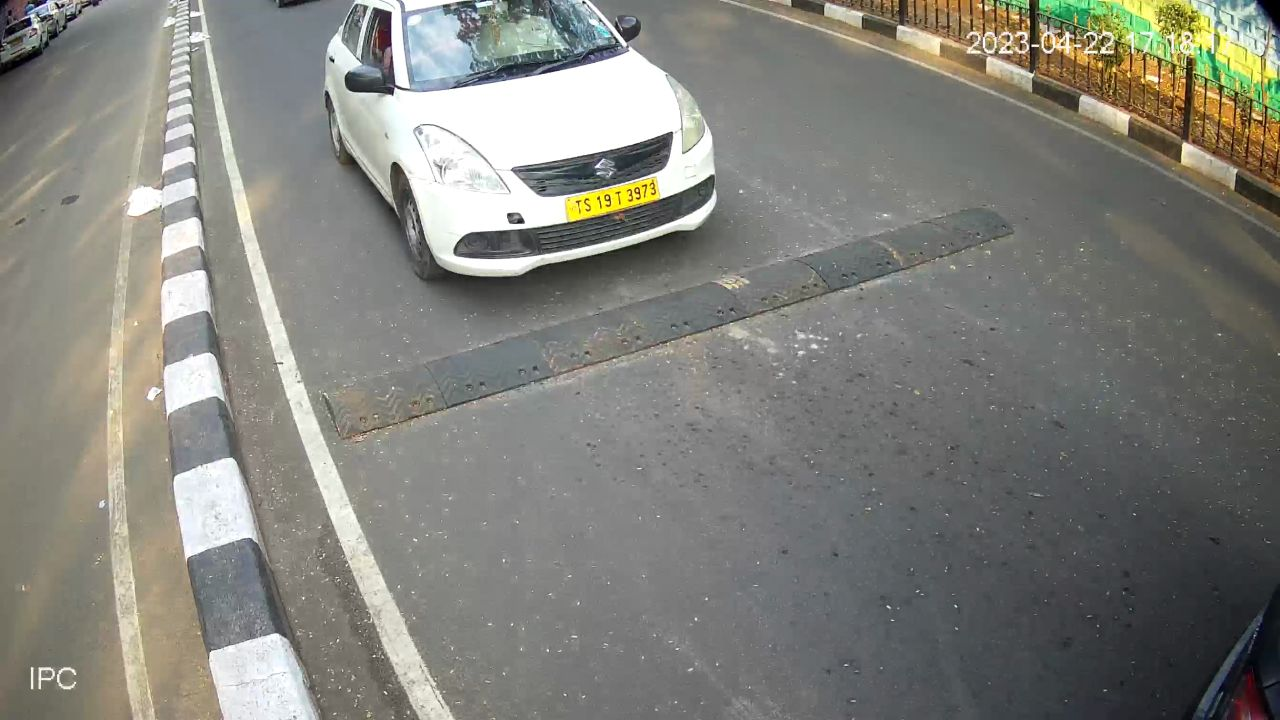license_plate: (561, 172, 663, 230)
